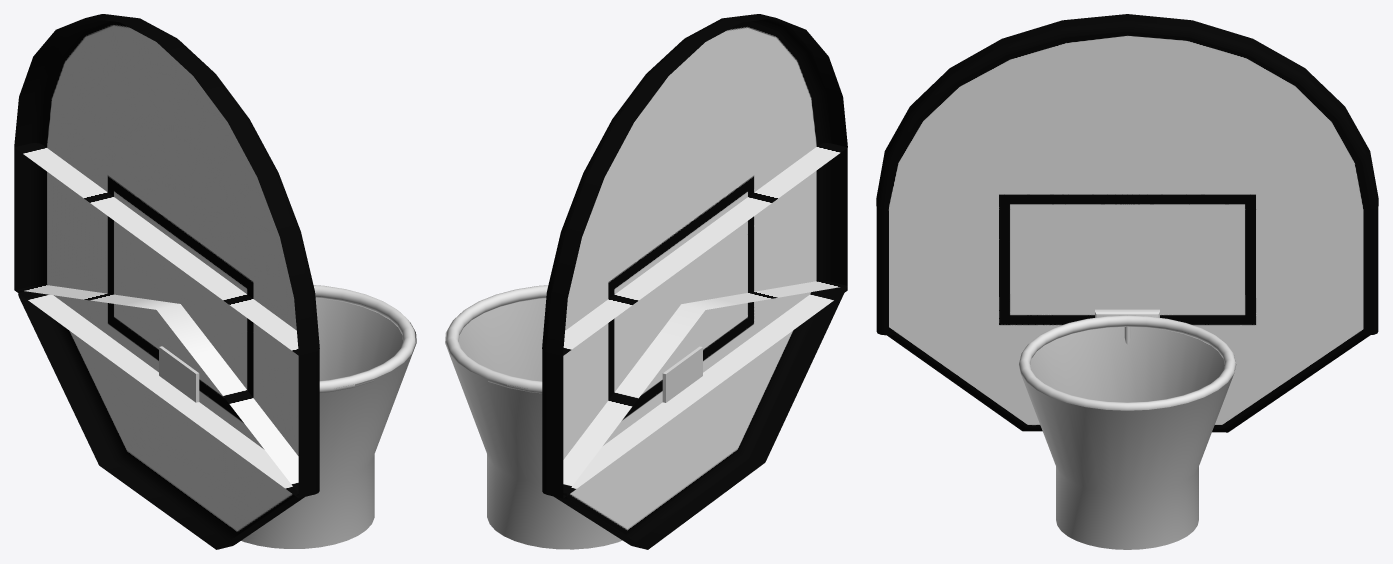
File: board.dae
The picture shows the model from 3 angles, left to right: view 1: azimuth 30°, elevation 25°; view 2: azimuth 150°, elevation 25°; view 3: azimuth 270°, elevation 25°; orthographic projection. The views are drawn at different scales.
Parts seen in each view (by area): view 1: Disc.2, Cylinder.1, Torus, Cube; view 2: Disc.2, Cylinder.1, Torus, Cube; view 3: Disc.2, Cylinder.1, Torus.
Boxes of the visible parts, bbox=[...] form: Disc.2: bbox=[14, 14, 319, 549]; Cylinder.1: bbox=[241, 298, 416, 548]; Torus: bbox=[313, 285, 415, 392]; Cube: bbox=[159, 346, 199, 402]; Disc.2: bbox=[542, 14, 847, 549]; Cylinder.1: bbox=[445, 298, 622, 549]; Torus: bbox=[446, 285, 548, 393]; Cube: bbox=[662, 346, 702, 402]; Disc.2: bbox=[876, 14, 1378, 432]; Cylinder.1: bbox=[1018, 327, 1236, 549]; Torus: bbox=[1019, 315, 1235, 410].
Bounding box in the file's own units: 98.93 × 196 × 200.
